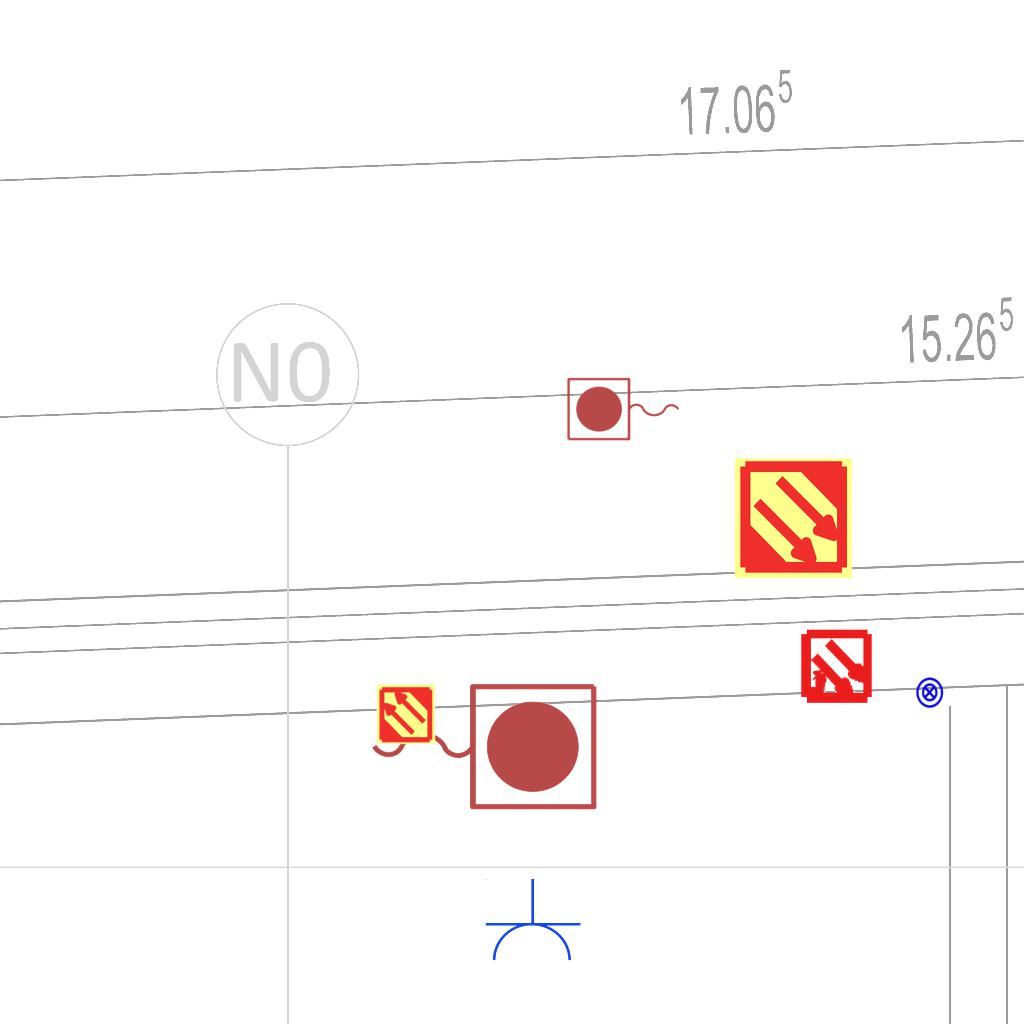ASR_Ansaugrauchmelder: (731, 456, 856, 581), (375, 683, 437, 745)
OT_Multisensormelder_(Kombination_RMO_WMD): (780, 612, 893, 725)
Schukosteckdose_einfach: (482, 878, 582, 965)
Taster_beleuchtet: (913, 676, 946, 709)
Zugtaster: (361, 673, 605, 817), (563, 374, 685, 446)
